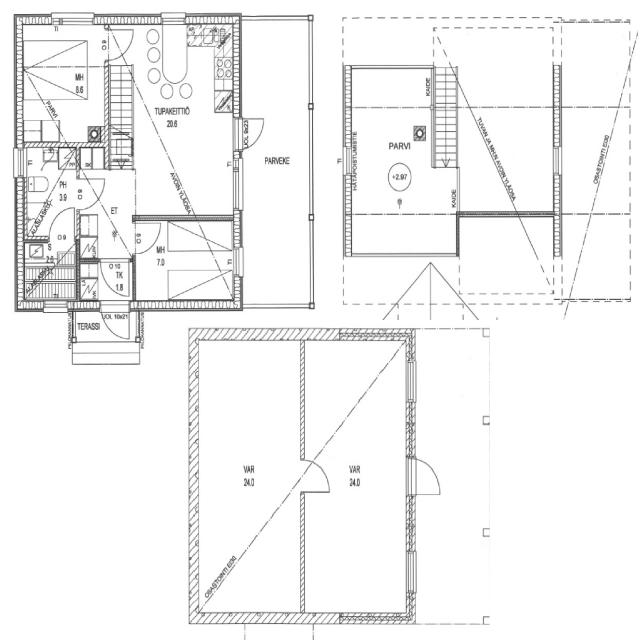door: (406, 459, 444, 494), (101, 301, 129, 345), (233, 118, 267, 150), (100, 258, 128, 296), (300, 461, 330, 492), (49, 205, 74, 242), (132, 222, 160, 254), (105, 30, 134, 60), (77, 179, 105, 210)
